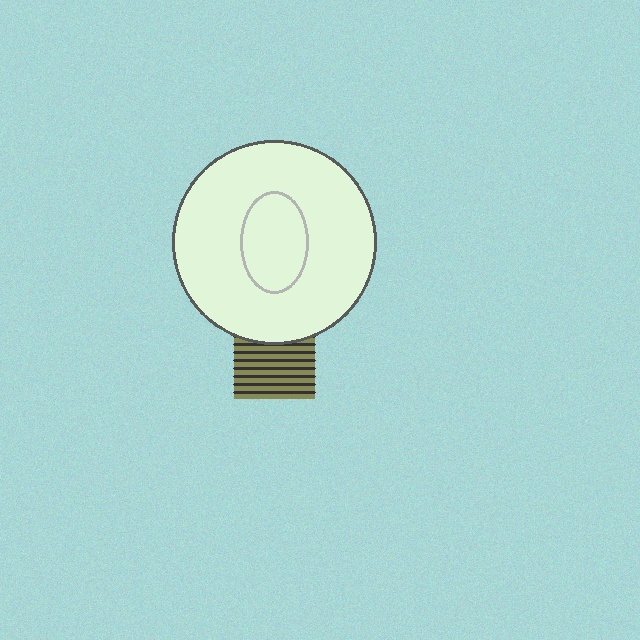bulb: (168, 136, 380, 403)
